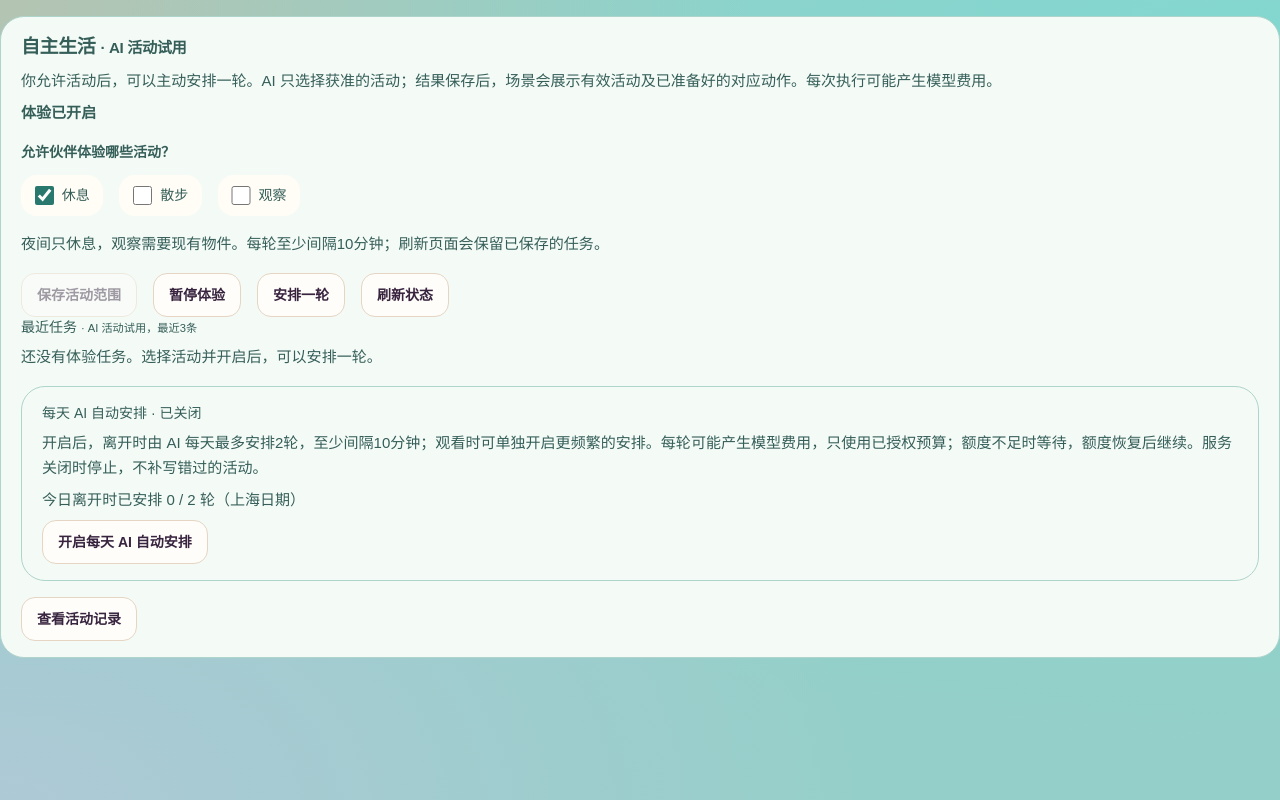
allows real automatic scheduling only with a checked budget and offers a separate viewing opt-in
Check: the text "每轮可能产生模型费用，只使用已授权预算" is shown, box [42,434,1232,476]
Click the button "开启每天 AI 自动安排". click: (125, 542)
box: [42,520,208,564]
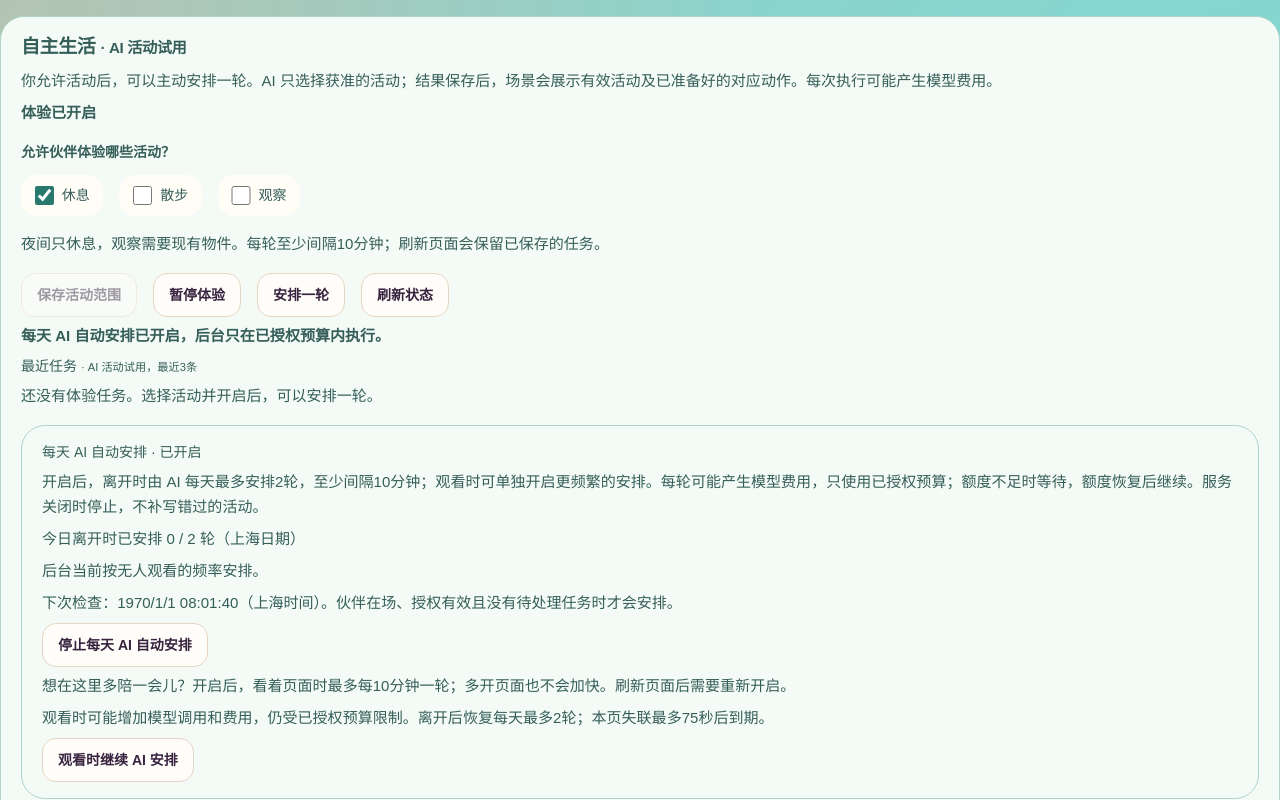
Check: the button "停止每天 AI 自动安排" is shown, box [42,623,208,667]
Check: the button "观看时继续 AI 安排" is enabled, box [42,738,194,782]
